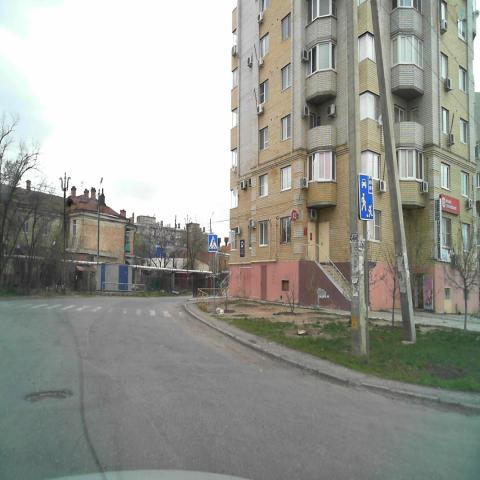5_21: (359, 173, 373, 220)
